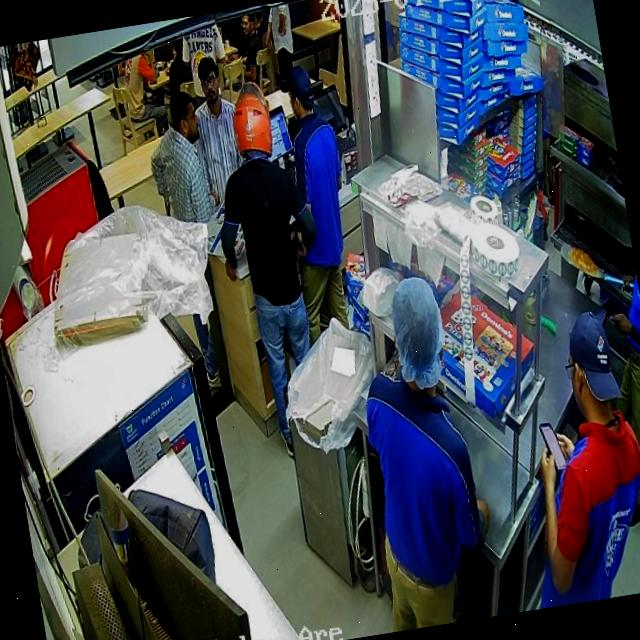helmet: (233, 80, 274, 153)
